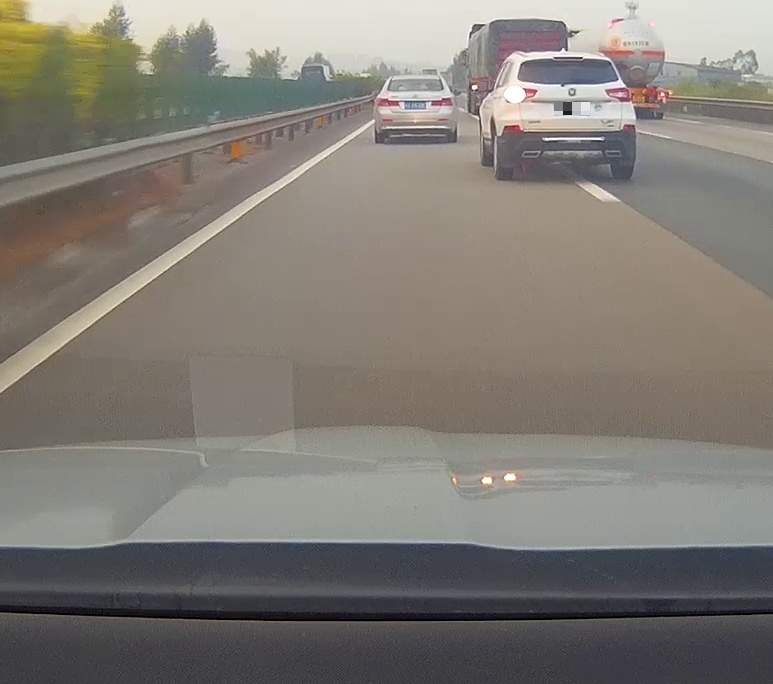L_light: (503, 85, 538, 105), (376, 98, 399, 106)
R_light: (605, 87, 632, 102), (431, 97, 453, 106)
T_light: (553, 56, 584, 61), (411, 77, 421, 81)
day-left: (502, 51, 637, 179)
day-no: (375, 74, 455, 143)
plate_1: (554, 102, 590, 115)
